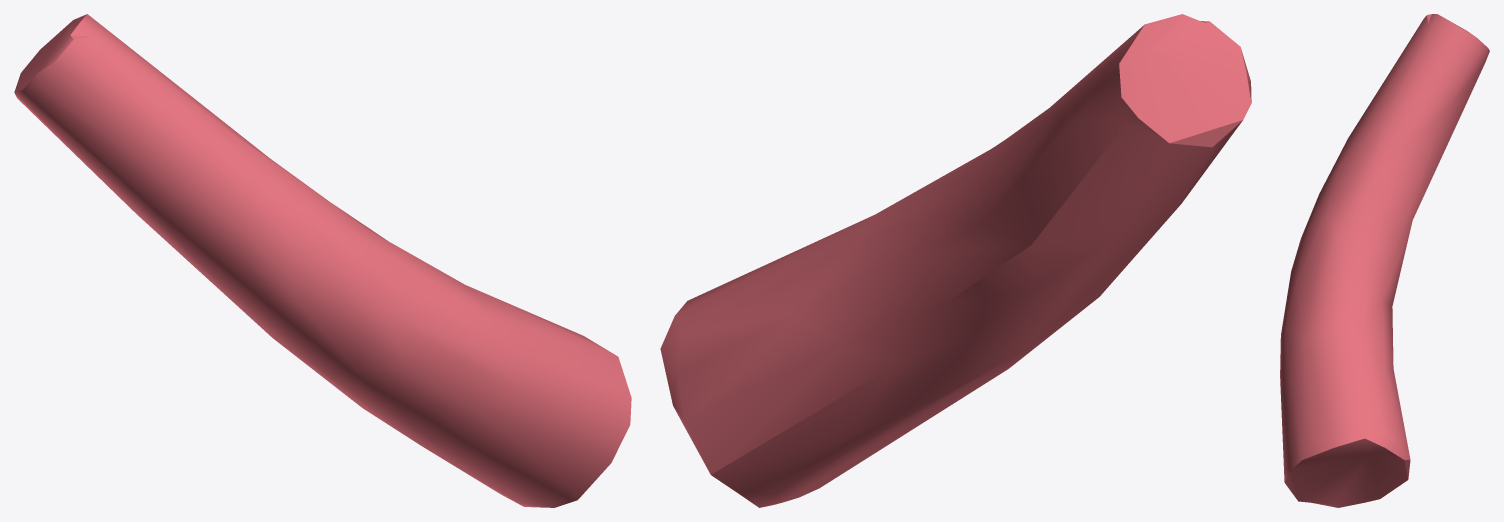
Rendered from fma68662_fj3017.glb.
3 renders of one model, left to right at view 1: azimuth 30°, elevation 25°; view 2: azimuth 150°, elevation 25°; view 3: azimuth 270°, elevation 25°, orthographic. The views are drawn at different scales.
Visible parts, largest first — view 1: FMA68662_FJ3017; view 2: FMA68662_FJ3017; view 3: FMA68662_FJ3017.
Part boxes in pixels (x1,y1,x2,y2): FMA68662_FJ3017: [14, 14, 631, 507]; FMA68662_FJ3017: [660, 14, 1251, 507]; FMA68662_FJ3017: [1280, 14, 1489, 507].
Size of the model in its own units: 0.00736 by 0.00707 by 0.00367.
